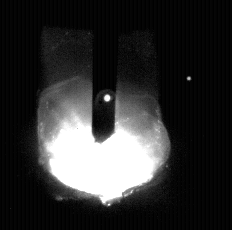arame: (92, 0, 117, 143)
poca: (37, 0, 170, 230)
